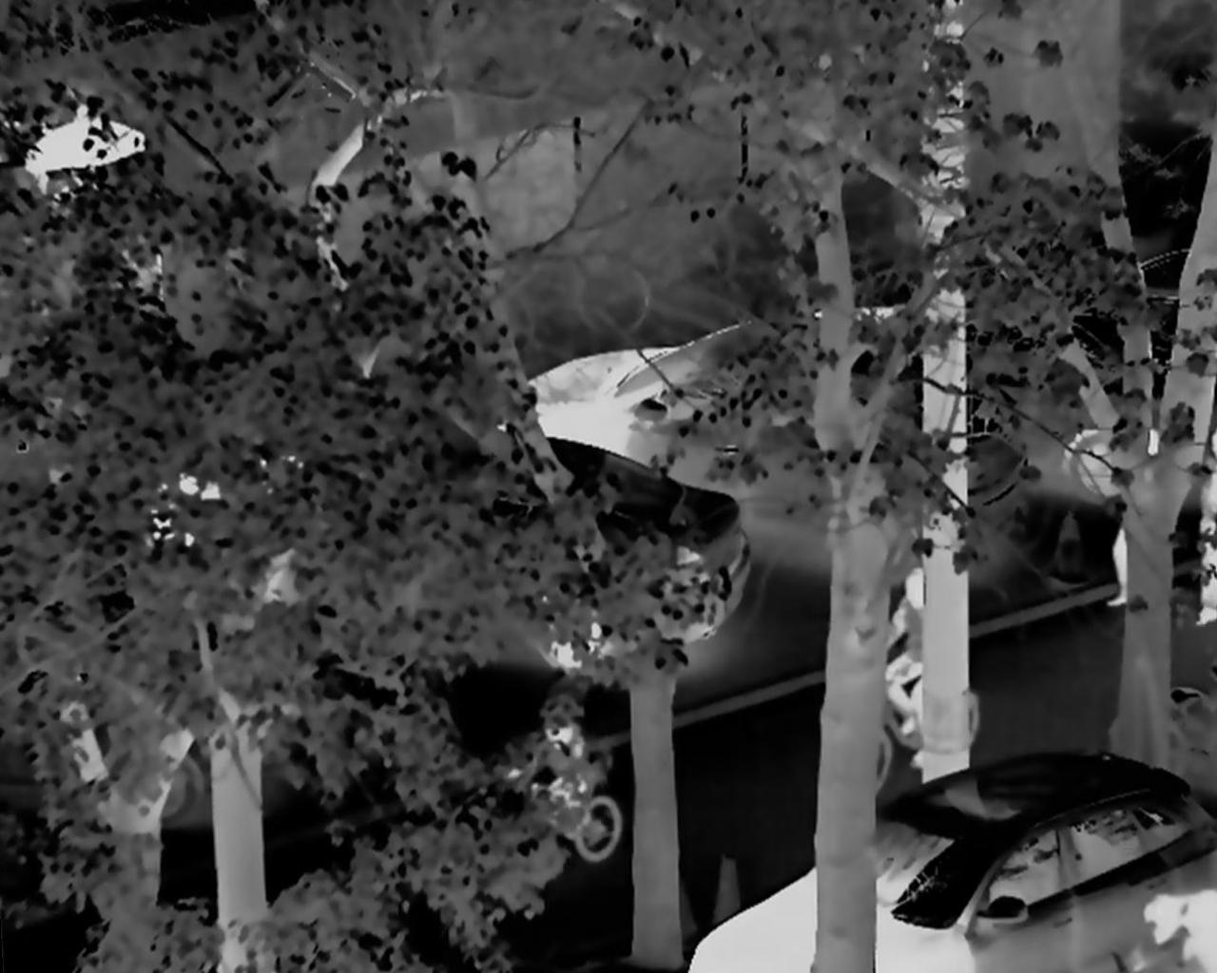person: (873, 554, 960, 739), (519, 699, 601, 821), (1102, 449, 1160, 610)
